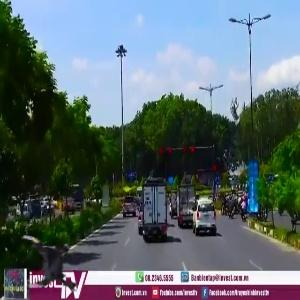drone: (16, 230, 85, 299)
